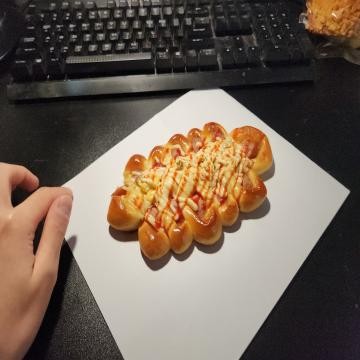pizza_bread: (109, 121, 275, 261)
